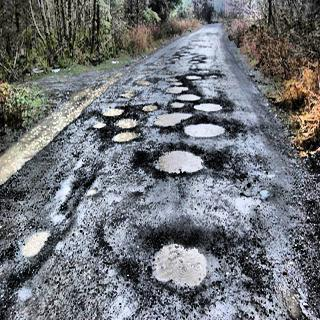pothole: (146, 224, 223, 303), (156, 85, 231, 147), (54, 157, 100, 214), (17, 217, 57, 277), (107, 87, 158, 132), (156, 141, 208, 185), (184, 56, 227, 89), (134, 60, 182, 88), (112, 128, 143, 148), (168, 42, 196, 59)
